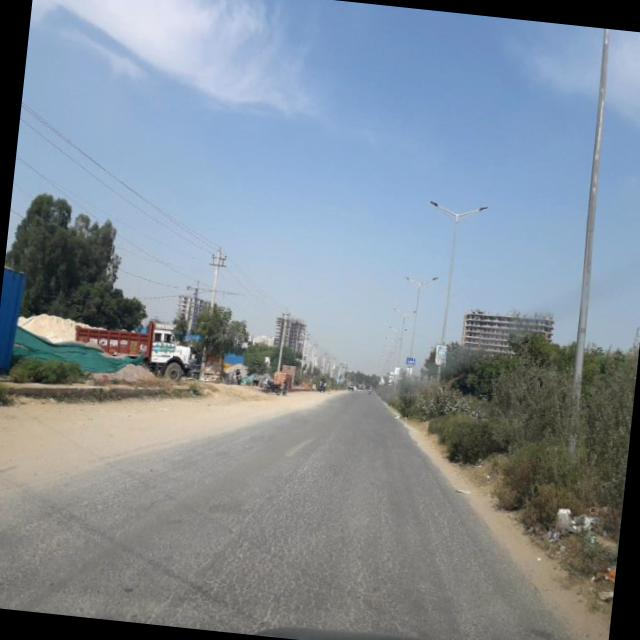crack: (1, 458, 531, 640)
